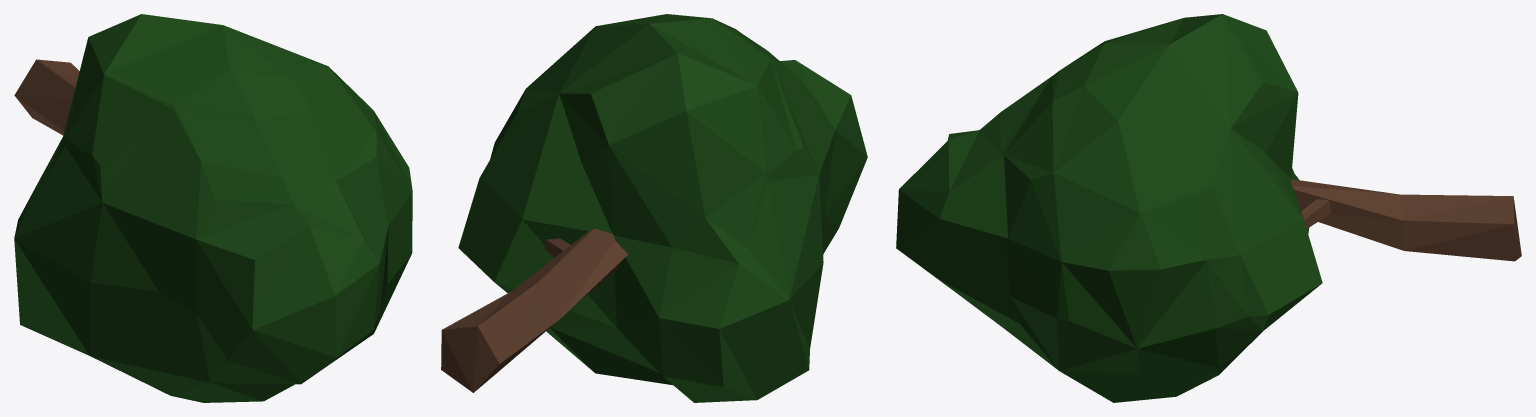
The model's file is LowPolyTree 1.fbx.
3 views of the same model, side by side, from view 1: azimuth 30°, elevation 25°; view 2: azimuth 150°, elevation 25°; view 3: azimuth 270°, elevation 25° (orthographic). The views are drawn at different scales.
Parts seen in each view (by area): view 1: Mball.005; view 2: Mball.005; view 3: Mball.005.
Part boxes in pixels (x1,y1,x2,y2): Mball.005: (14,14,412,402); Mball.005: (441,14,867,402); Mball.005: (896,14,1521,402).
Bounding box in the file's own units: 5.35 × 5.36 × 8.94.
